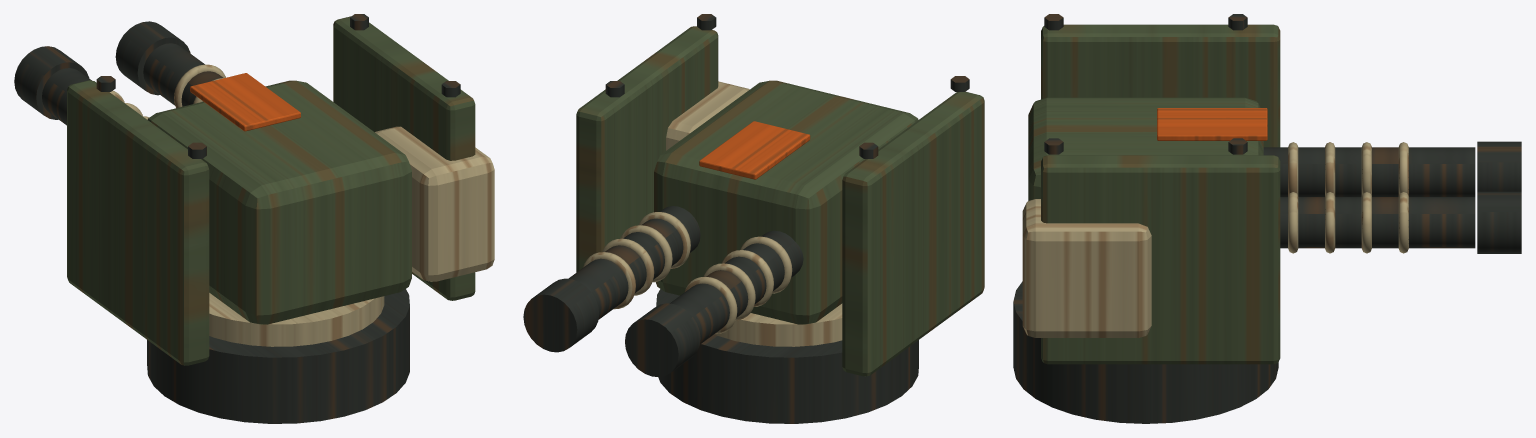
File: convoy-turret.obj
3 views of the same model, side by side, from view 1: azimuth 30°, elevation 25°; view 2: azimuth 150°, elevation 25°; view 3: azimuth 270°, elevation 25° (orthographic).
Parts seen in each view (by area): view 1: convoy-turret; view 2: convoy-turret; view 3: convoy-turret.
Part boxes in pixels (box(x1,y1,x2,y2)): convoy-turret: box(14, 14, 494, 423); convoy-turret: box(523, 14, 984, 423); convoy-turret: box(1013, 14, 1521, 423).
Size of the model in its own units: 0.97 by 0.864 by 1.38.
